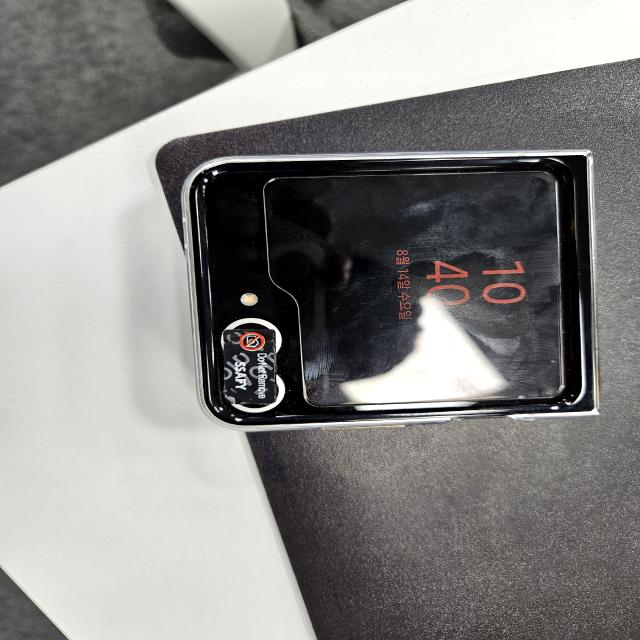phone: (189, 154, 599, 420)
removed_sticker: (220, 329, 276, 401)
